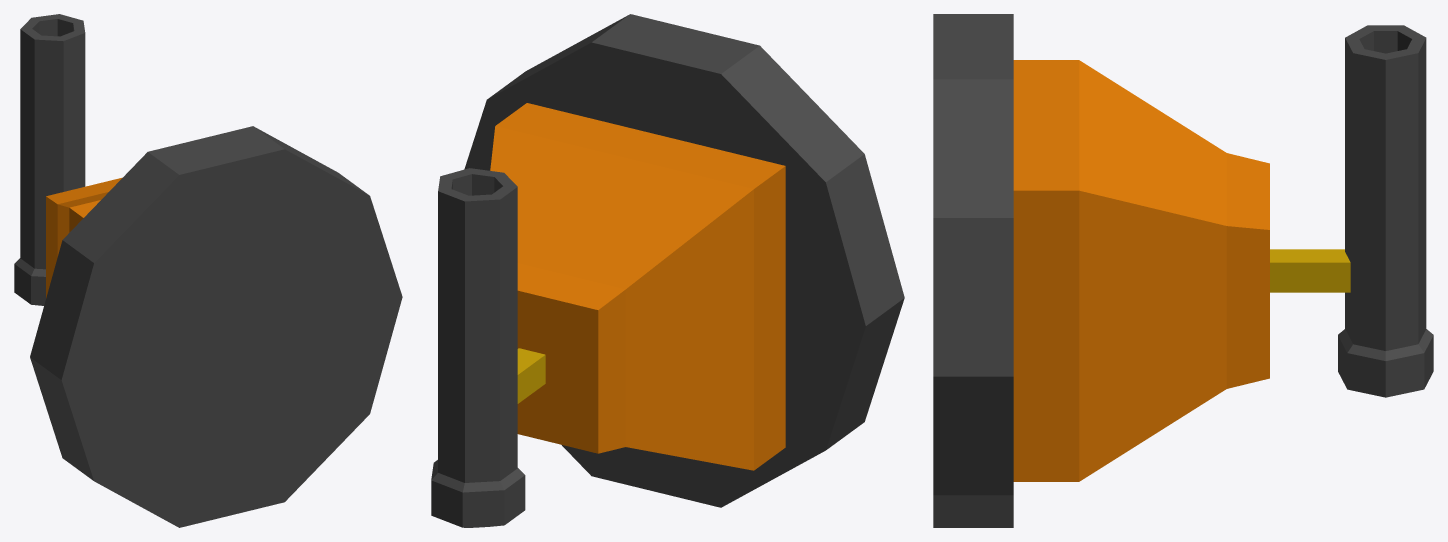
The model's file is turret.fbx.
3 renders of one model, left to right at view 1: azimuth 30°, elevation 25°; view 2: azimuth 150°, elevation 25°; view 3: azimuth 270°, elevation 25°, orthographic. The views are drawn at different scales.
Parts seen in each view (by area): view 1: Cylinder; view 2: Cylinder; view 3: Cylinder.
Part boxes in pixels (x1=…): Cylinder: x1=14, y1=14, x2=402, y2=527; Cylinder: x1=431, y1=14, x2=904, y2=527; Cylinder: x1=933, y1=14, x2=1433, y2=527.
Bounding box in the file's own units: 20000 × 20000 × 20000.
